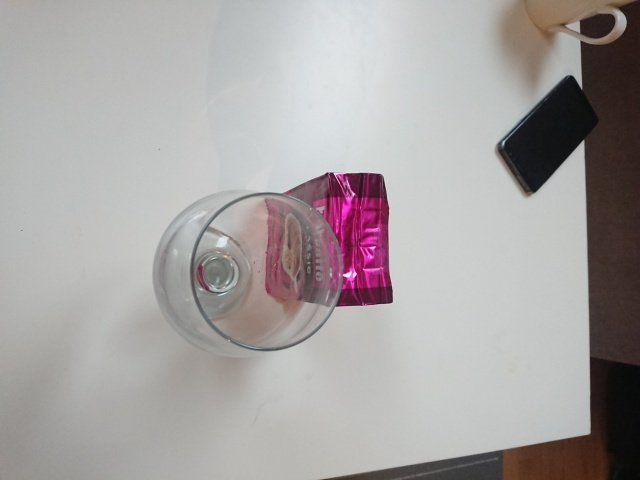Barcaffe Classic Original 225g: (264, 169, 395, 309)
